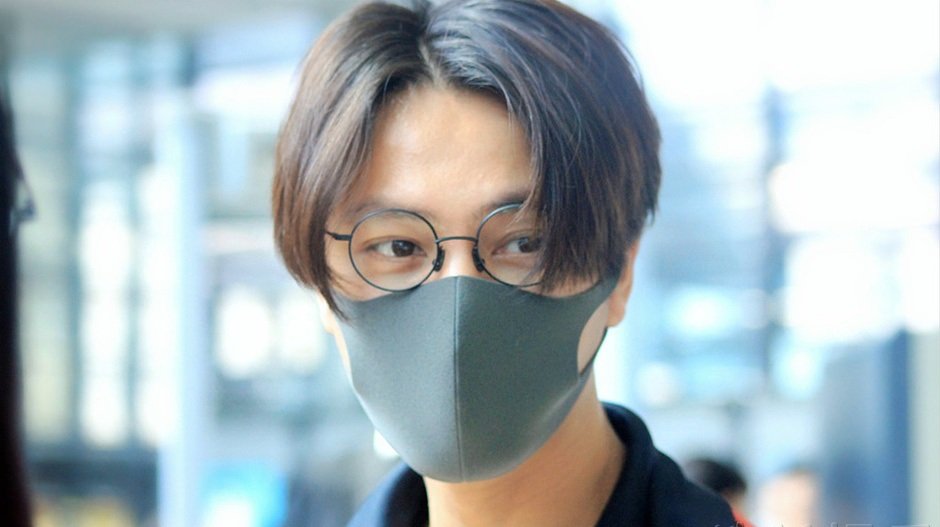face_mask: (337, 110, 600, 485)
